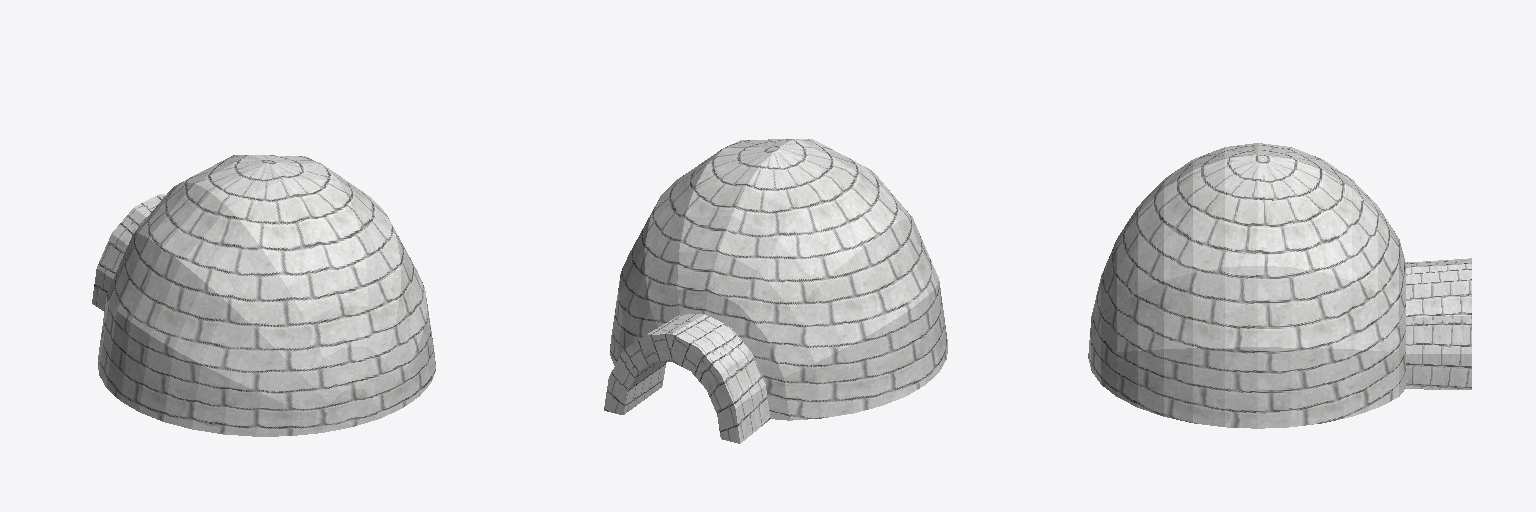
3 views of the same model, side by side, from view 1: azimuth 30°, elevation 25°; view 2: azimuth 150°, elevation 25°; view 3: azimuth 270°, elevation 25° (orthographic).
Size of the model in its own units: 5.21 by 3.43 by 5.9.
1 materials, 1 textured.